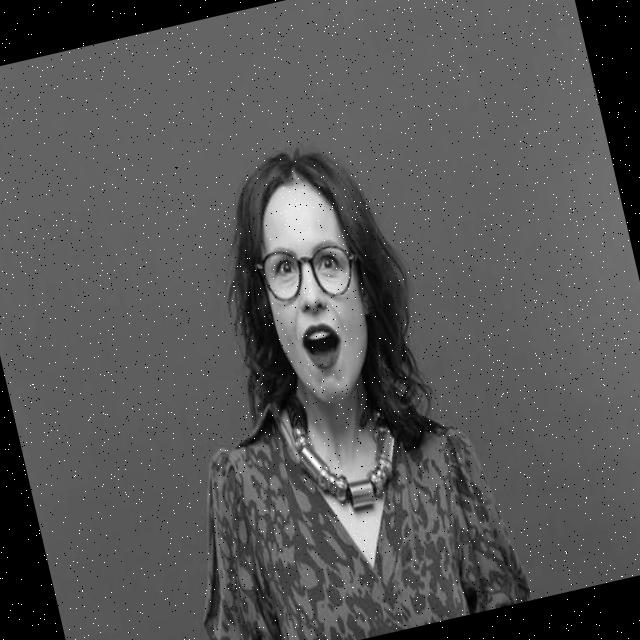Surprised: (247, 176, 391, 413)
